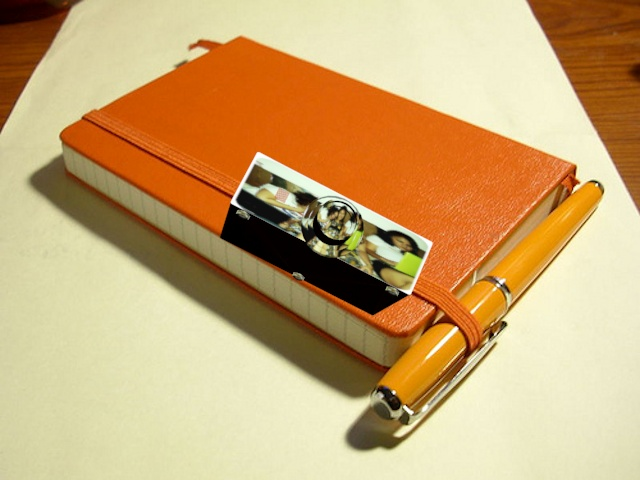projector: (217, 145, 433, 320)
